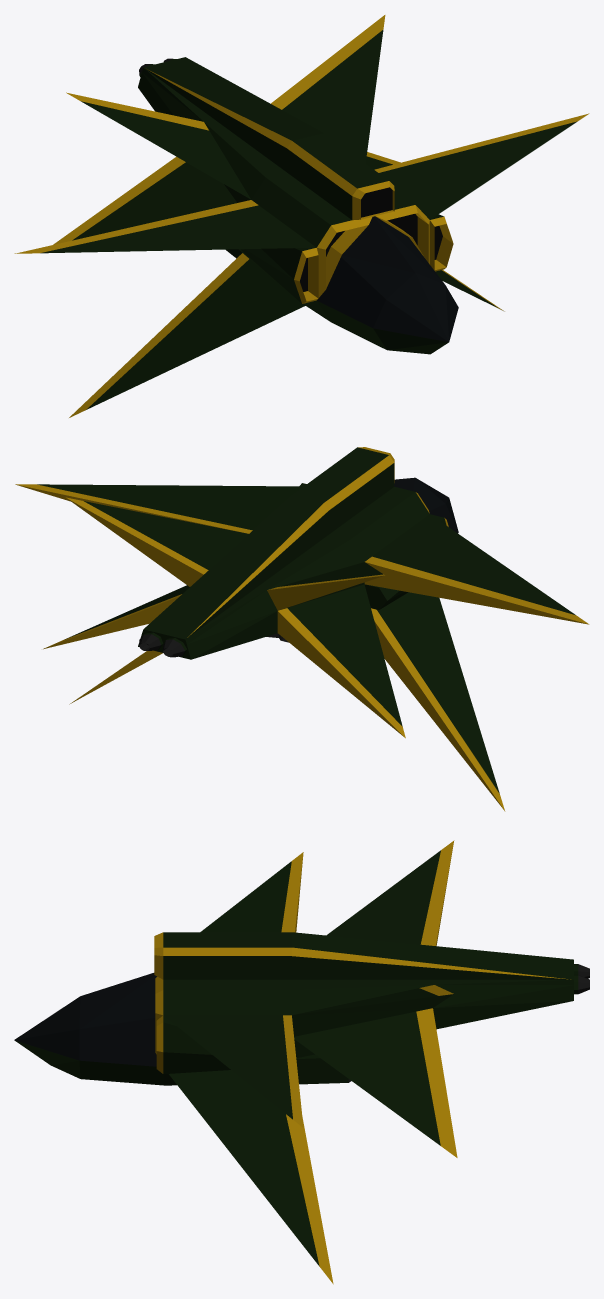
Rendered from spaceship.obj.
3 views of the same model, one above another, from view 1: azimuth 30°, elevation 25°; view 2: azimuth 150°, elevation 25°; view 3: azimuth 270°, elevation 25° (orthographic).
Visible parts, largest first — view 1: Cube_Cube_Hull, Cube_Cube_Decals, Cube_Cube_Glass, Cube_Cube_Darks; view 2: Cube_Cube_Hull, Cube_Cube_Decals, Cube_Cube_Glass, Cube_Cube_Metal; view 3: Cube_Cube_Hull, Cube_Cube_Decals, Cube_Cube_Glass.
Part boxes in pixels (left/top/right/bottom): Cube_Cube_Hull: left=40, top=30, right=577, bottom=409; Cube_Cube_Decals: left=14, top=15, right=589, bottom=417; Cube_Cube_Glass: left=317, top=216, right=458, bottom=342; Cube_Cube_Darks: left=300, top=187, right=442, bottom=291; Cube_Cube_Hull: left=37, top=447, right=575, bottom=793; Cube_Cube_Decals: left=15, top=447, right=589, bottom=811; Cube_Cube_Glass: left=394, top=477, right=458, bottom=533; Cube_Cube_Metal: left=139, top=633, right=288, bottom=657; Cube_Cube_Hull: left=15, top=850, right=578, bottom=1266; Cube_Cube_Decals: left=154, top=840, right=570, bottom=1284; Cube_Cube_Glass: left=14, top=973, right=156, bottom=1066.
Bounding box in the file's own units: 10.18 × 4.51 × 8.96.
